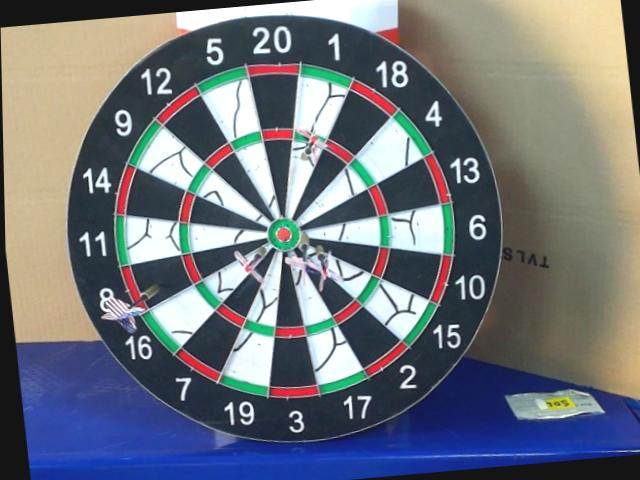single_1: (285, 145, 321, 219)
single_16: (203, 249, 263, 299)
single_8: (133, 258, 192, 306)
